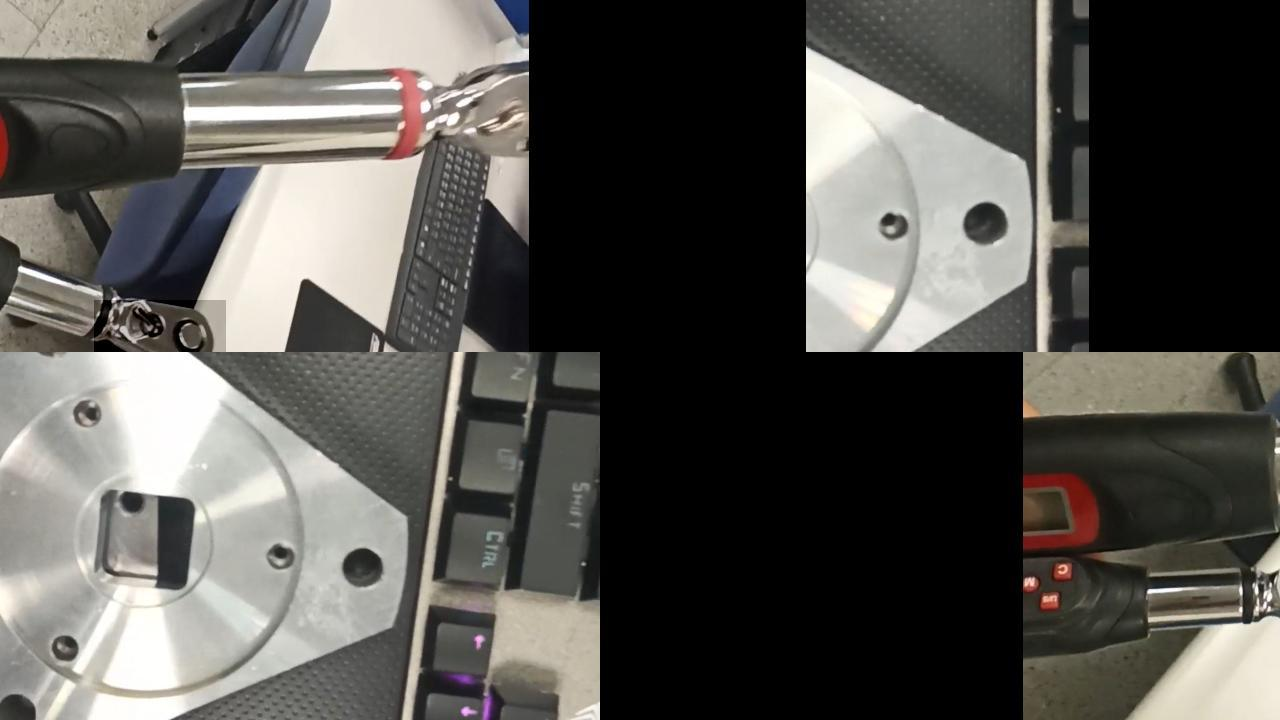Tool: (94, 299, 226, 352), (1254, 551, 1280, 630)
